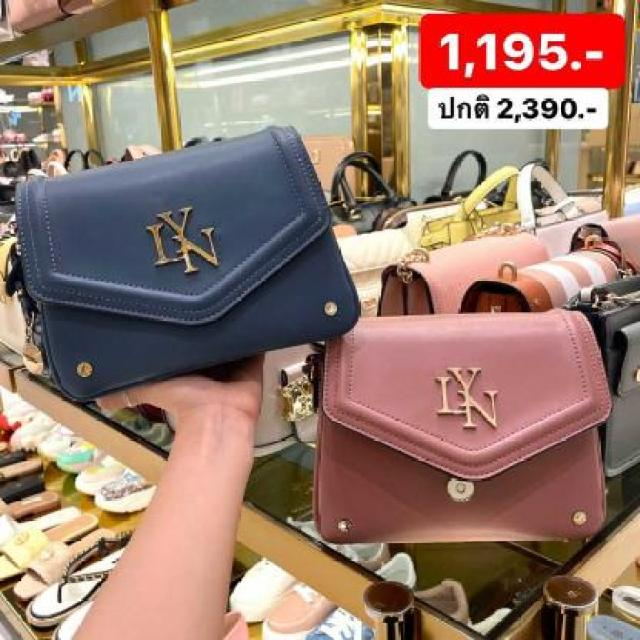Bag: (0, 92, 388, 428), (320, 268, 640, 626)
